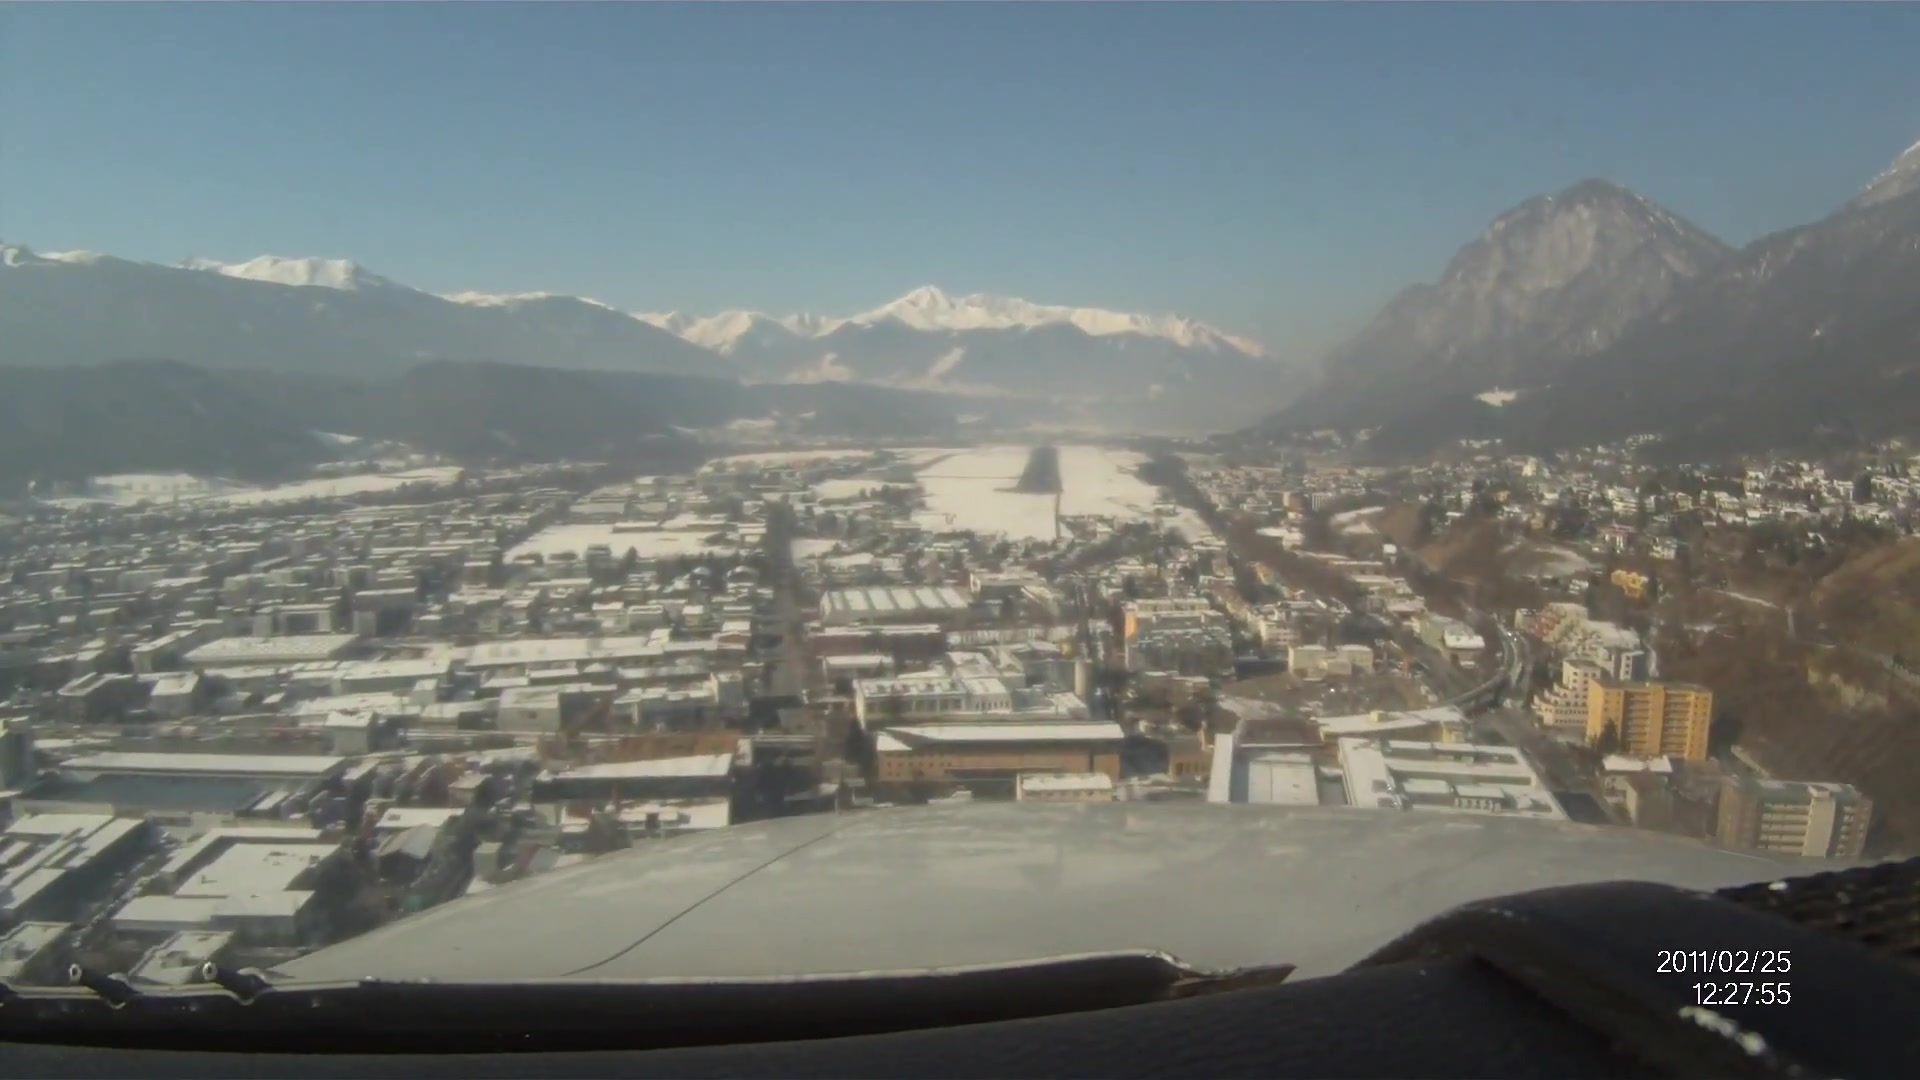runway: (1015, 446, 1062, 495)
